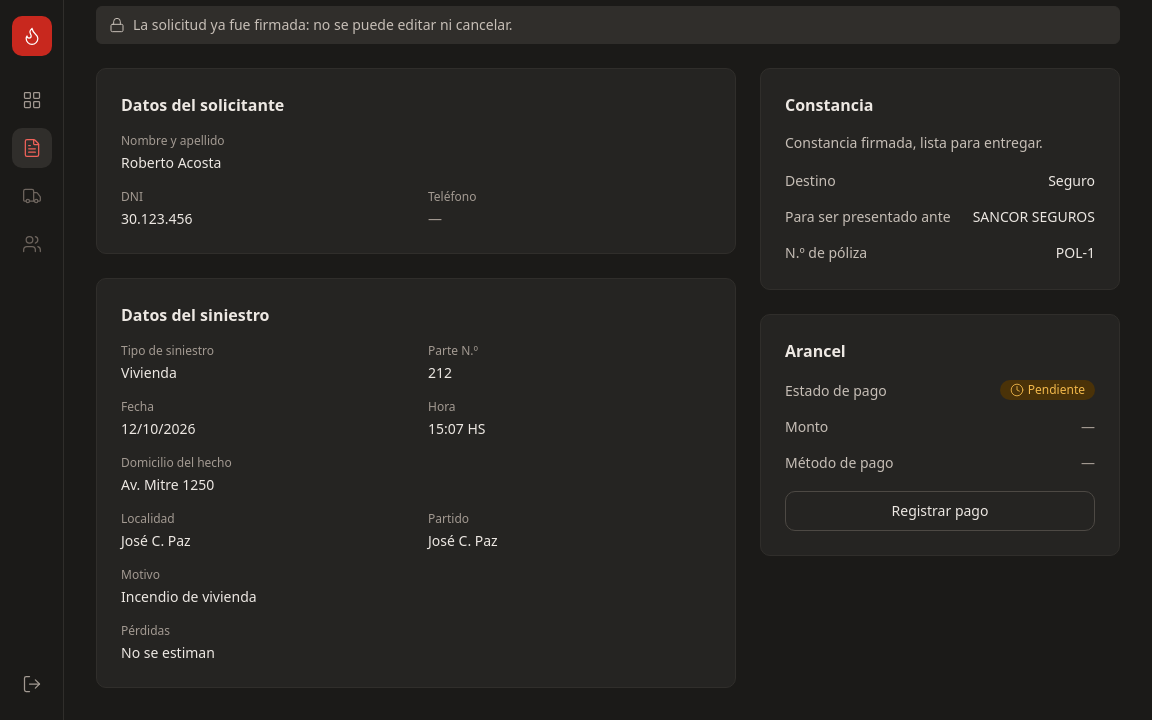
Scenario: SolicitudDetallePage · arancel (US14) › muestra el error del servidor dentro del modal
(page scrolled)
Click the button "Registrar pago". click: [940, 511]
box: [785, 491, 1095, 531]
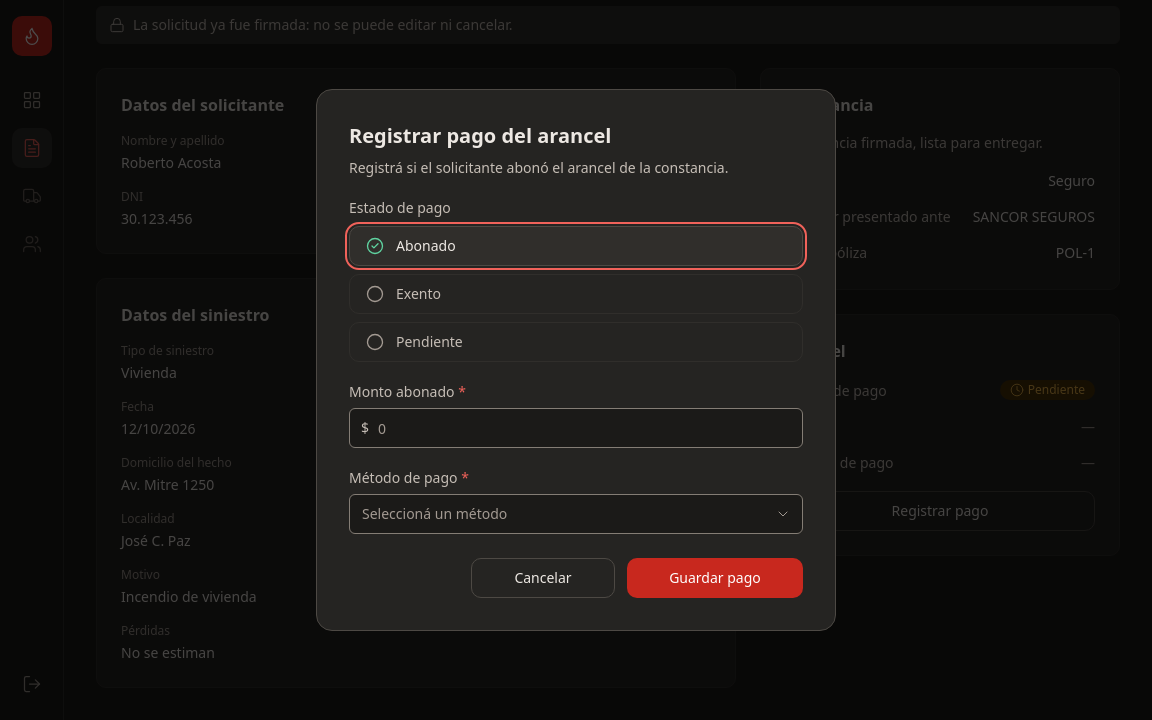
Click the radio button labelled "Pendiente". click: [429, 342]
box: [349, 322, 803, 362]
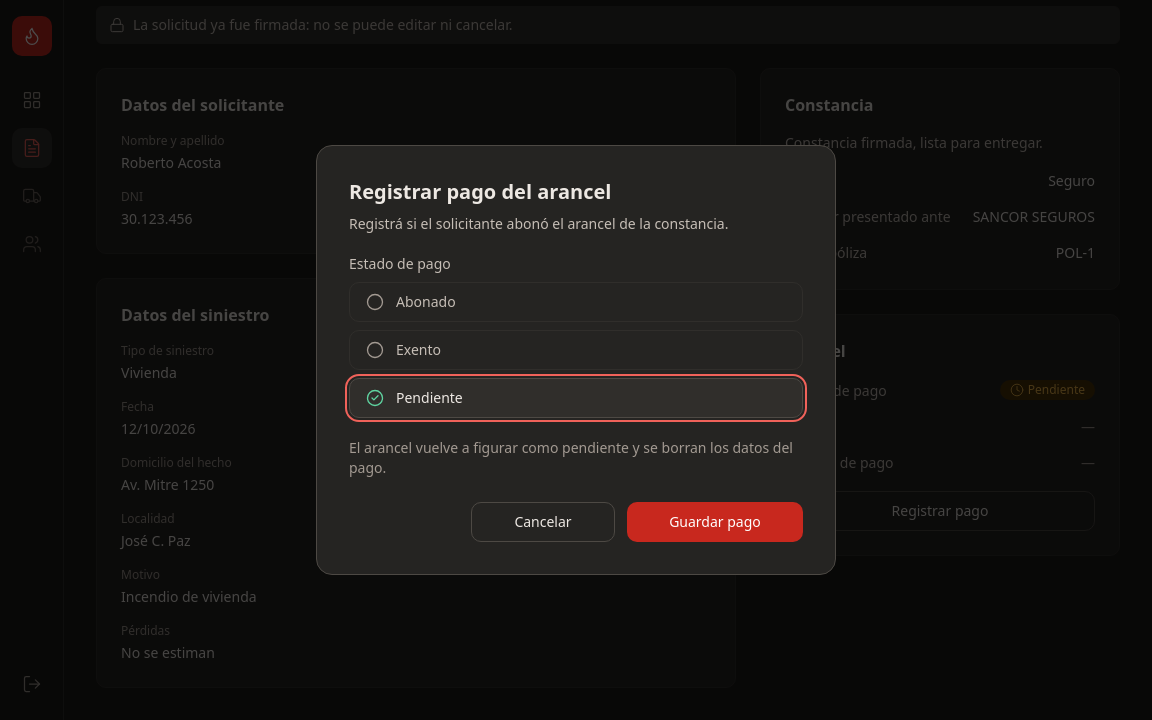
Click the button "Guardar pago". click: [715, 522]
box: [627, 502, 803, 542]
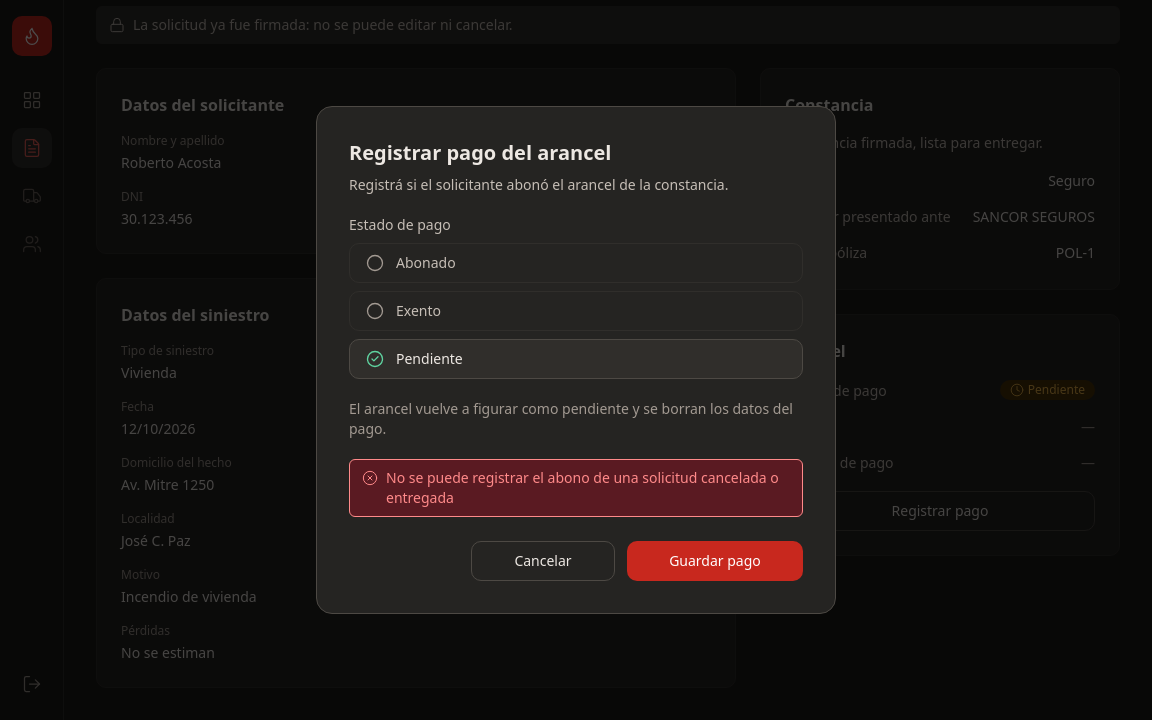
Result: the message "No se puede registrar el abono de una solicitud cancelada o entregada" is shown at [349, 459, 803, 517]
